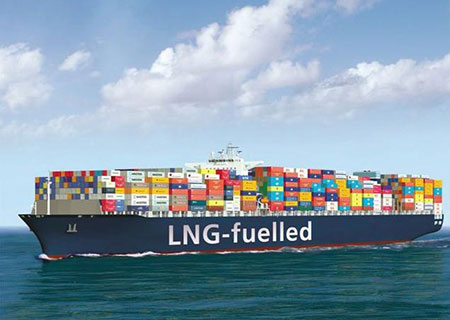Cargoship: (12, 142, 448, 261)
